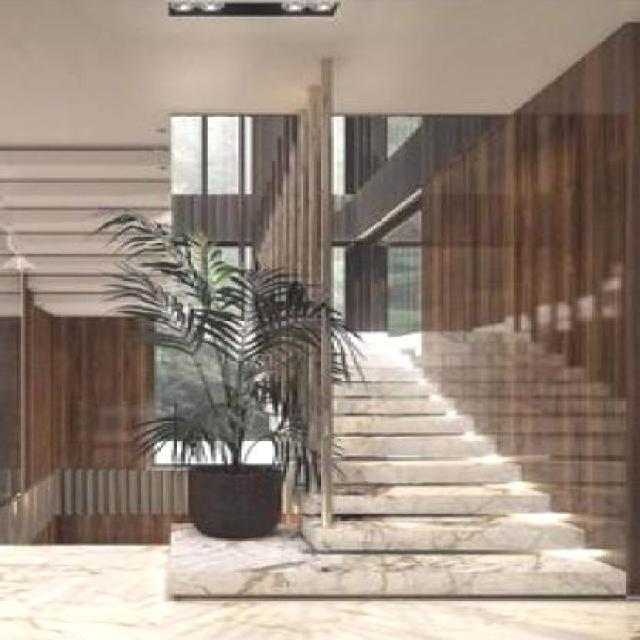stair: (252, 309, 623, 614)
